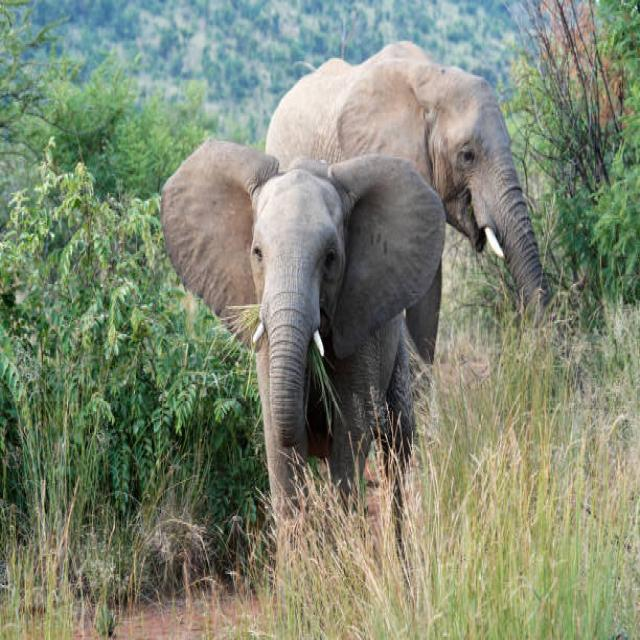Elephant: (169, 109, 460, 607), (290, 16, 578, 330)
